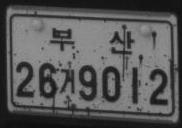0: (101, 64, 121, 103)
1: (126, 66, 143, 104)
2: (148, 67, 168, 105), (15, 60, 34, 98)
6: (38, 61, 57, 99)
9: (77, 64, 97, 101)
거: (59, 67, 75, 94)
부산_D: (49, 25, 136, 55)
